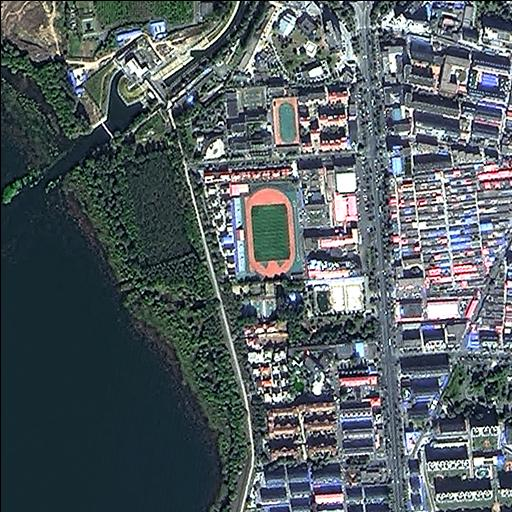school: (224, 82, 300, 161)
